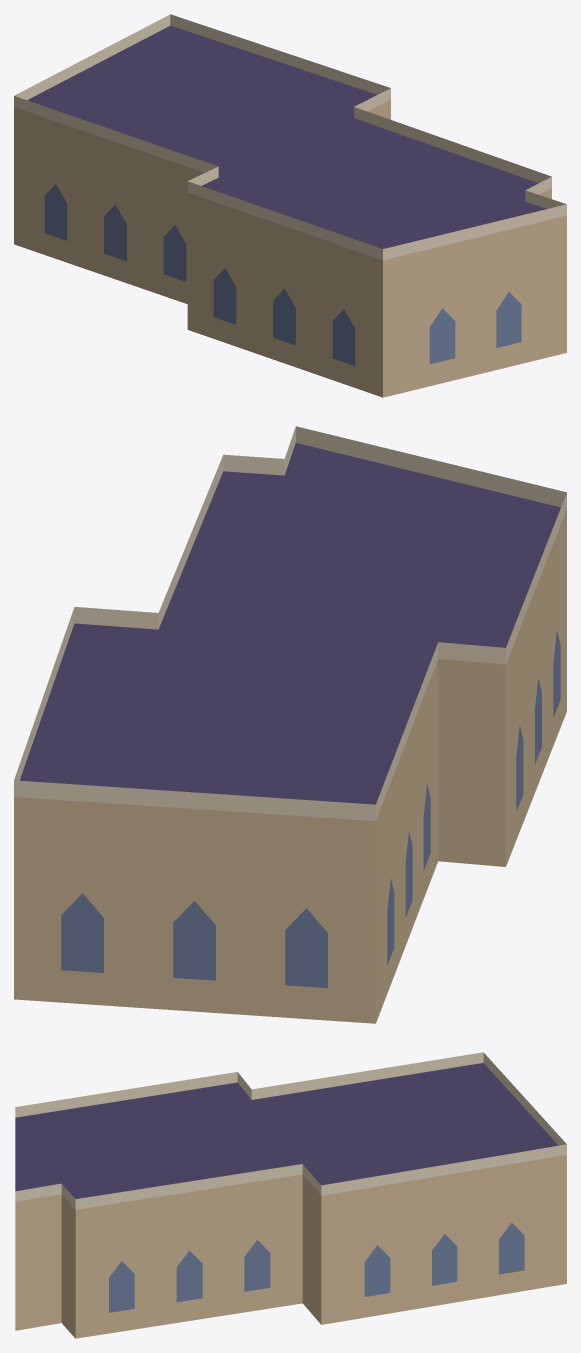
Rendered from b-131-day.glb.
The picture shows the model from 3 angles, top to bottom: view 1: azimuth 30°, elevation 25°; view 2: azimuth 150°, elevation 25°; view 3: azimuth 270°, elevation 25°; orthographic projection. The views are drawn at different scales.
Visible parts, largest first — view 1: campus/b-131-day-0; view 2: campus/b-131-day-0; view 3: campus/b-131-day-0.
Boxes of the visible parts, bbox=[...] form: campus/b-131-day-0: bbox=[14, 14, 566, 397]; campus/b-131-day-0: bbox=[14, 426, 566, 1023]; campus/b-131-day-0: bbox=[15, 1052, 566, 1338].
Size of the model in its own units: 16.37 by 7.25 by 26.04.
